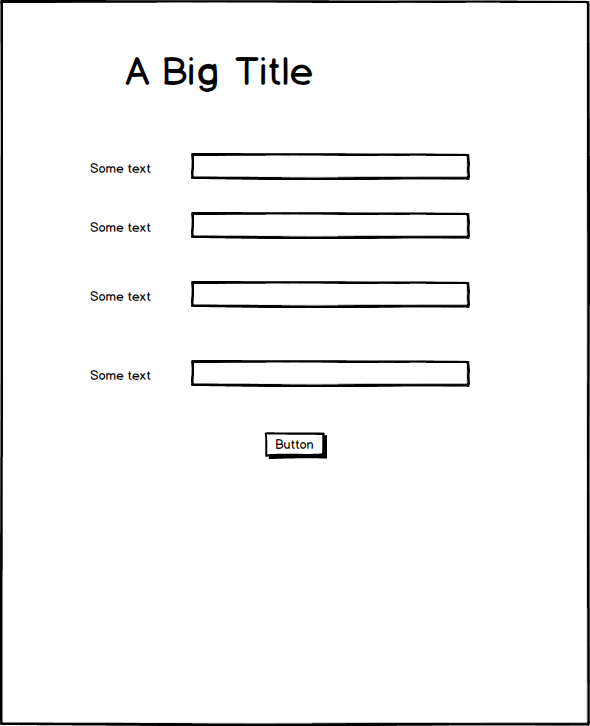button: (259, 425, 333, 465)
h1: (118, 45, 321, 100)
input: (188, 353, 481, 399), (185, 204, 482, 248), (187, 146, 483, 189), (184, 273, 482, 314)
label: (83, 281, 161, 312), (86, 213, 159, 243), (87, 359, 156, 389), (81, 158, 155, 179)
